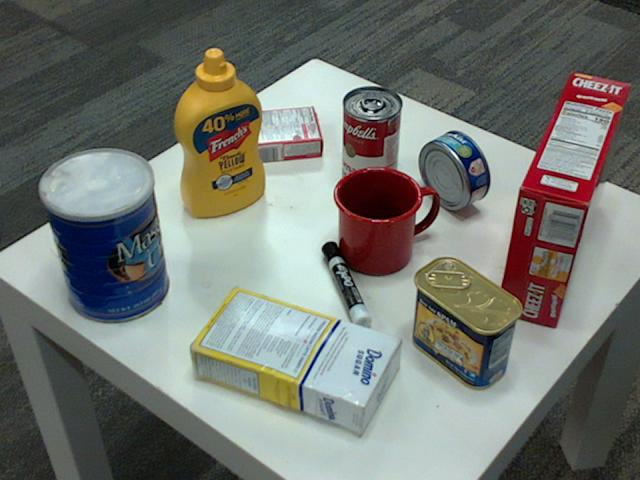cracker_box: (495, 71, 629, 325)
gelatin_box: (246, 103, 324, 160)
large_marker: (321, 243, 371, 334)
master_chef_can: (36, 149, 167, 324)
mug: (331, 164, 435, 272)
mustard_bottle: (173, 48, 265, 216)
potted_meat_can: (409, 256, 522, 388)
sugar_box: (184, 283, 398, 431)
tomato_soup_can: (341, 86, 401, 191)
tuna_fish_can: (418, 129, 488, 209)
